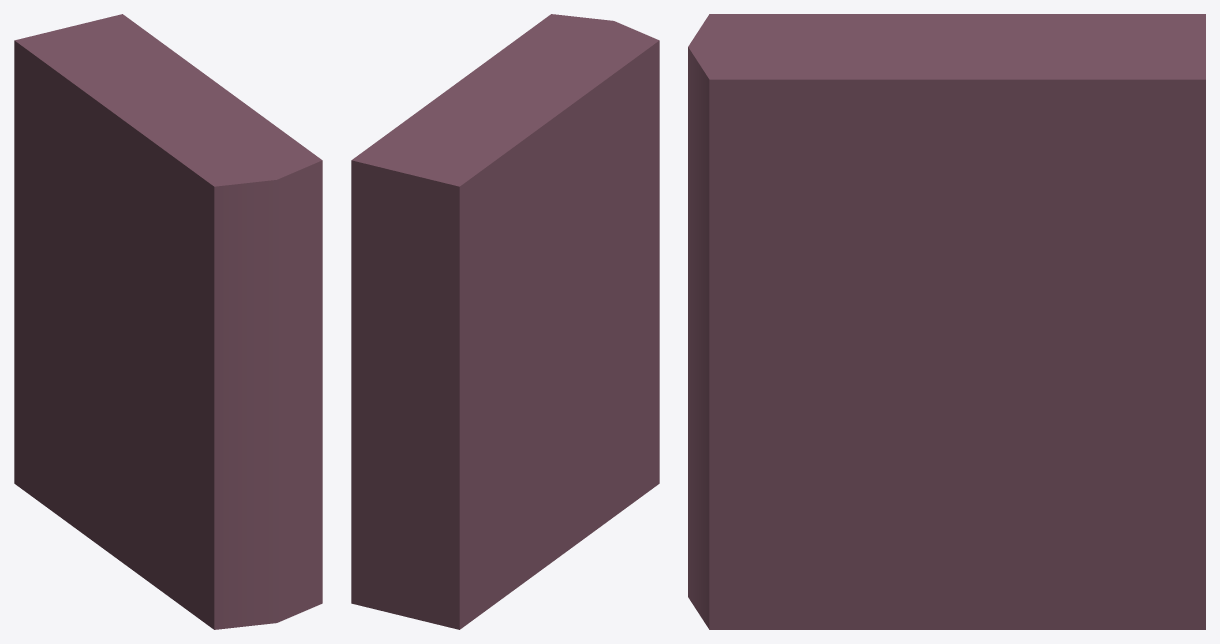
The model's file is Libro2.fbx.
3 renders of one model, left to right at view 1: azimuth 30°, elevation 25°; view 2: azimuth 150°, elevation 25°; view 3: azimuth 270°, elevation 25°, orthographic. The views are drawn at different scales.
Parts seen in each view (by area): view 1: Libro2; view 2: Libro2; view 3: Libro2.
Boxes of the visible parts, <box> form: Libro2: <box>14,14,322,629</box>; Libro2: <box>351,14,659,629</box>; Libro2: <box>688,14,1205,629</box>.
Bounding box in the file's own units: 5.79 × 22.65 × 19.31.
